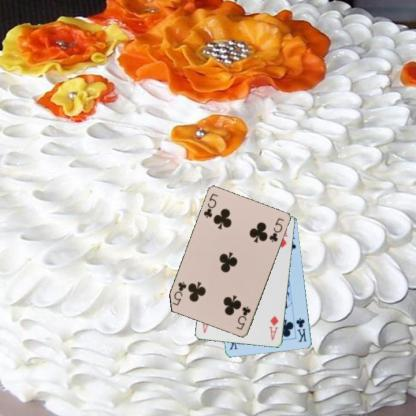5c: (201, 191, 220, 220), (233, 304, 252, 331)
Ad: (266, 313, 280, 341)
Kc: (293, 316, 308, 343)
